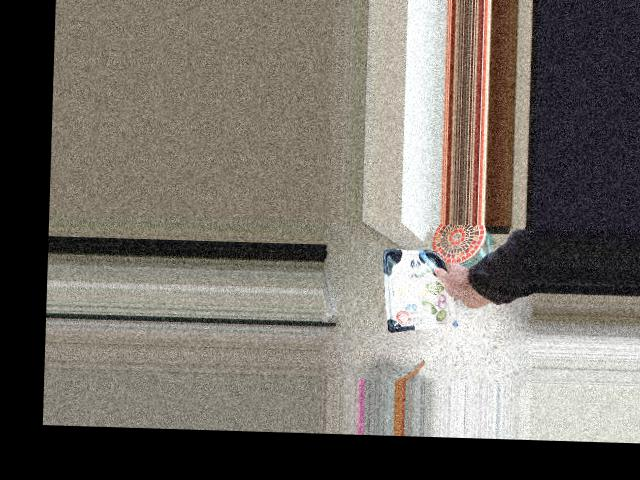cheese: (398, 250, 485, 334)
